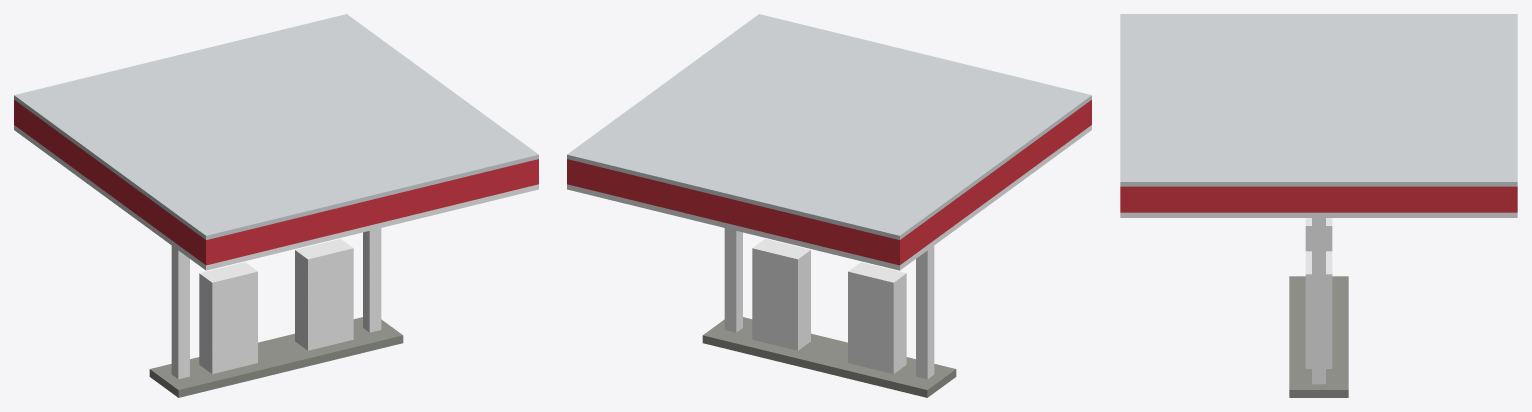
Rendered from site_canopy_far.fbx.
The picture shows the model from 3 angles, left to right: view 1: azimuth 30°, elevation 25°; view 2: azimuth 150°, elevation 25°; view 3: azimuth 270°, elevation 25°; orthographic projection. The views are drawn at different scales.
Parts seen in each view (by area): view 1: a1019/0/site_canopy_far; view 2: a1019/0/site_canopy_far; view 3: a1019/0/site_canopy_far.
Part boxes in pixels (x1,y1,x2,y2): a1019/0/site_canopy_far: [14, 14, 538, 397]; a1019/0/site_canopy_far: [567, 14, 1091, 397]; a1019/0/site_canopy_far: [1120, 14, 1517, 397].
Size of the model in its own units: 8 by 5.4 by 8.
